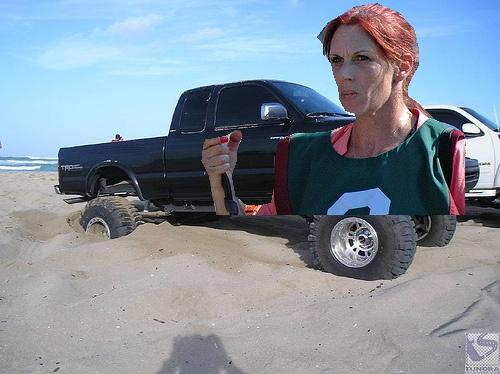tampered: (202, 4, 465, 215)
